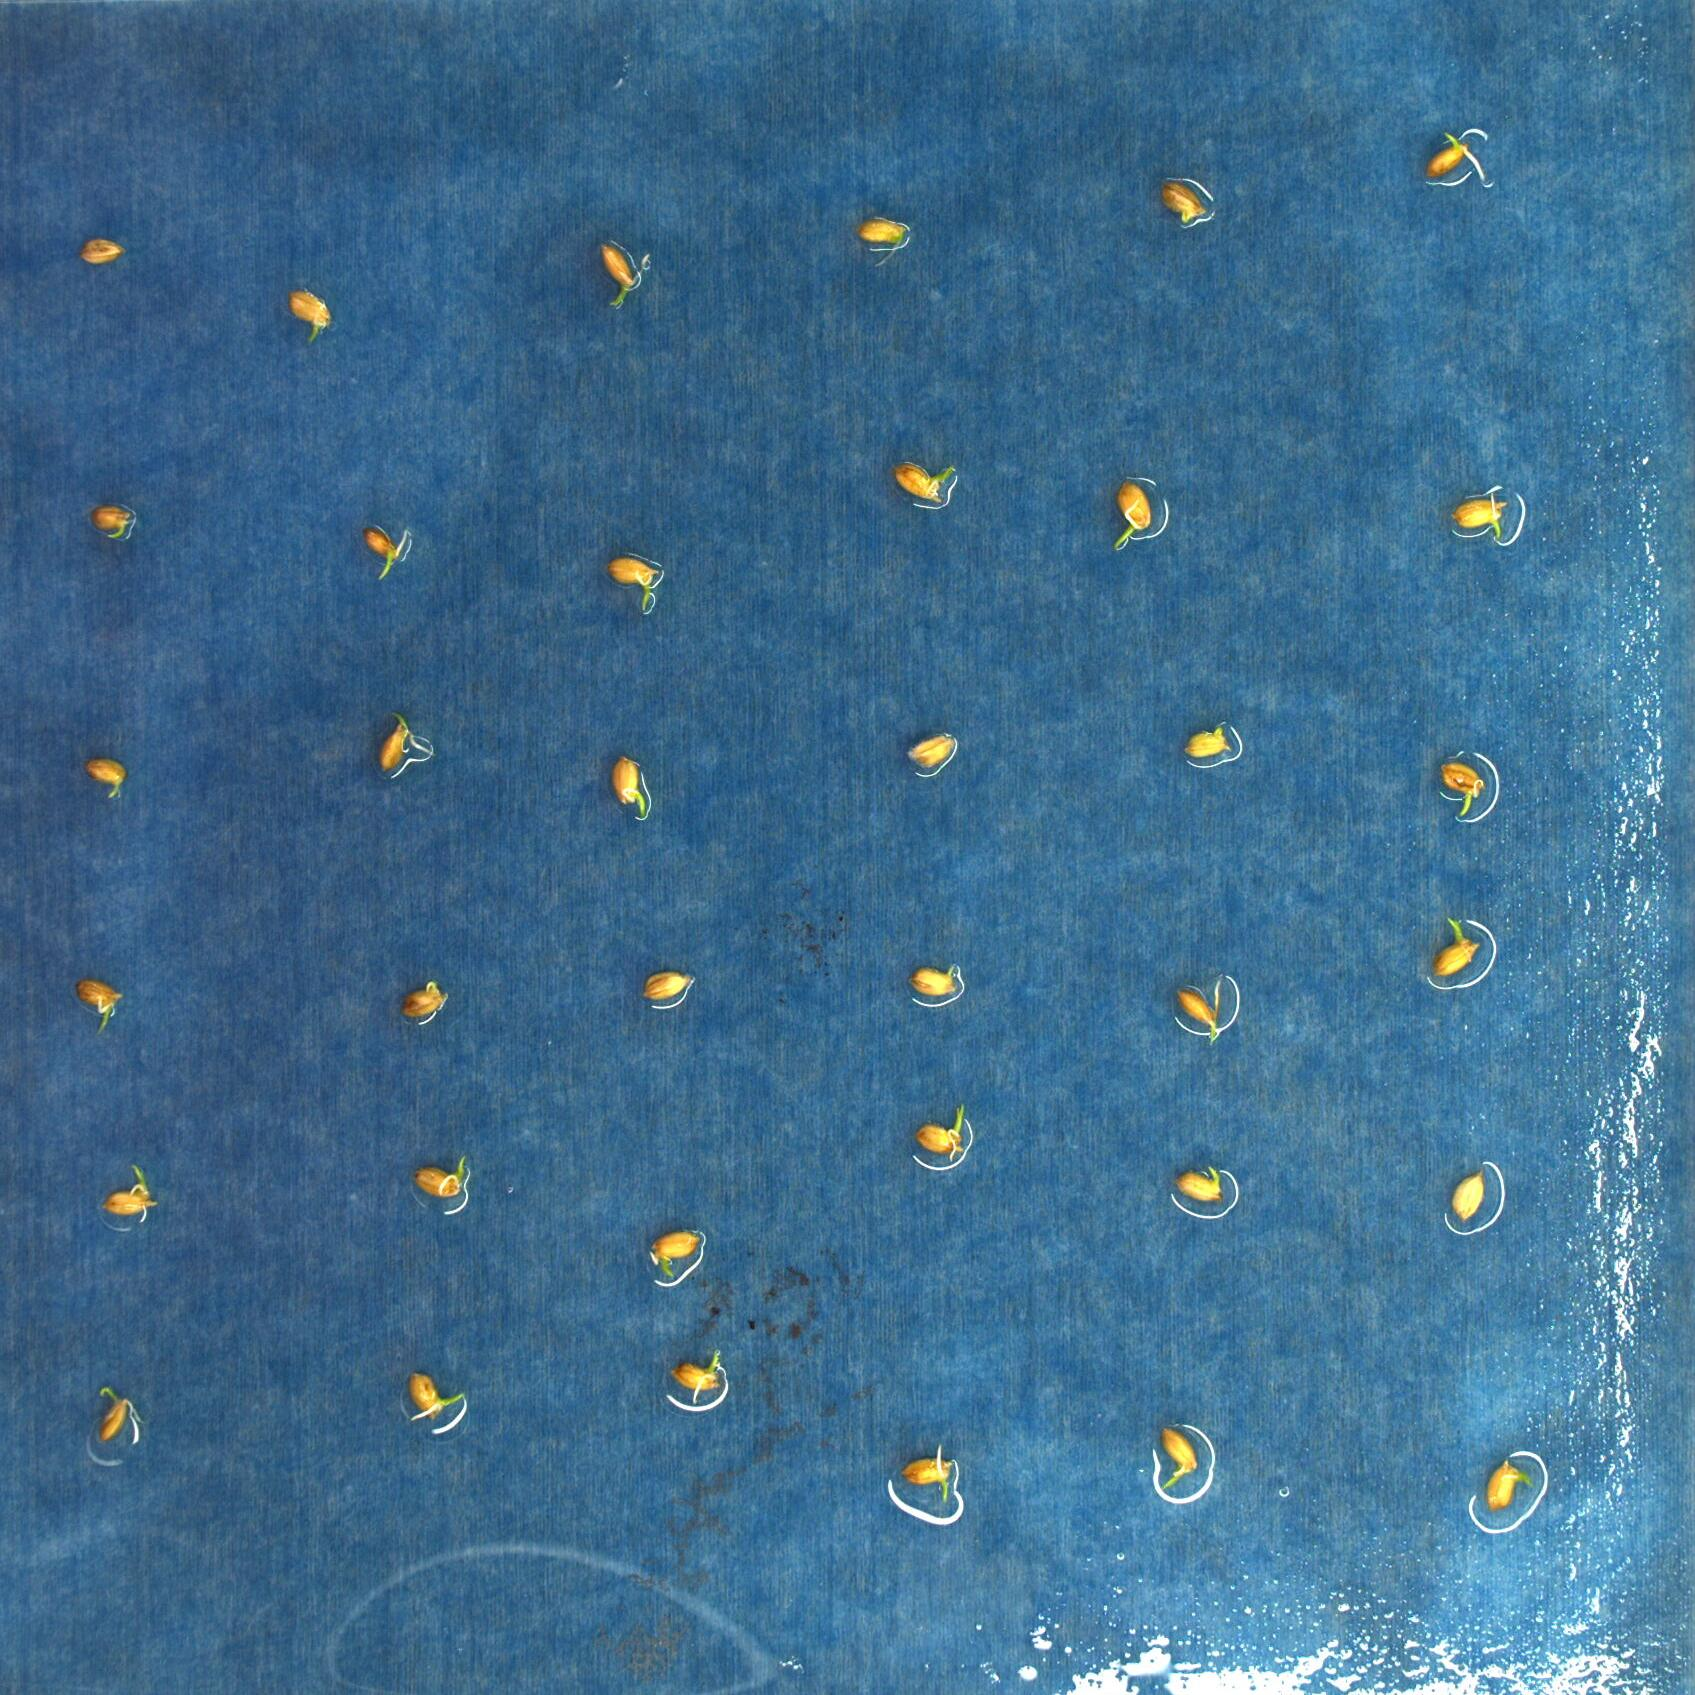not sprout: (1450, 483, 1513, 543), (1170, 975, 1223, 1043), (855, 213, 913, 262), (286, 289, 332, 348), (1158, 175, 1212, 224), (900, 730, 956, 771), (1175, 726, 1236, 764), (640, 970, 700, 1006), (911, 964, 962, 1004), (81, 757, 127, 801), (400, 976, 449, 1017), (78, 231, 129, 269), (1453, 1170, 1487, 1225)
sprout: (374, 709, 436, 781), (1426, 121, 1495, 185), (896, 453, 962, 508), (1108, 480, 1156, 554), (404, 1364, 464, 1423), (1426, 914, 1479, 979), (608, 554, 667, 612), (1437, 757, 1487, 821), (913, 1104, 970, 1156), (900, 1444, 953, 1501), (671, 1350, 725, 1405), (104, 1164, 157, 1220), (598, 242, 643, 307), (93, 1386, 141, 1447), (413, 1158, 469, 1208), (643, 1229, 698, 1279), (1482, 1454, 1530, 1510), (608, 754, 650, 816), (366, 520, 410, 579), (78, 981, 123, 1034), (1155, 1430, 1197, 1485), (1173, 1159, 1225, 1205), (85, 500, 132, 542)
